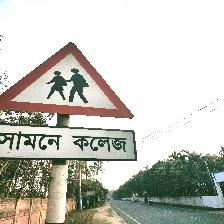College-in-front: (0, 32, 157, 169)
